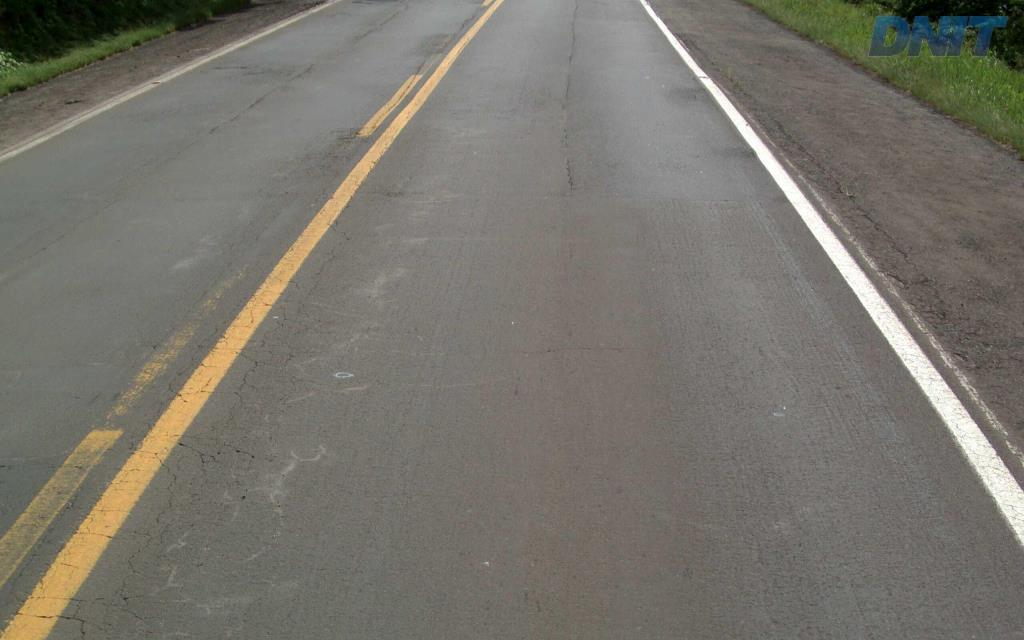crack: (101, 580, 162, 627)
